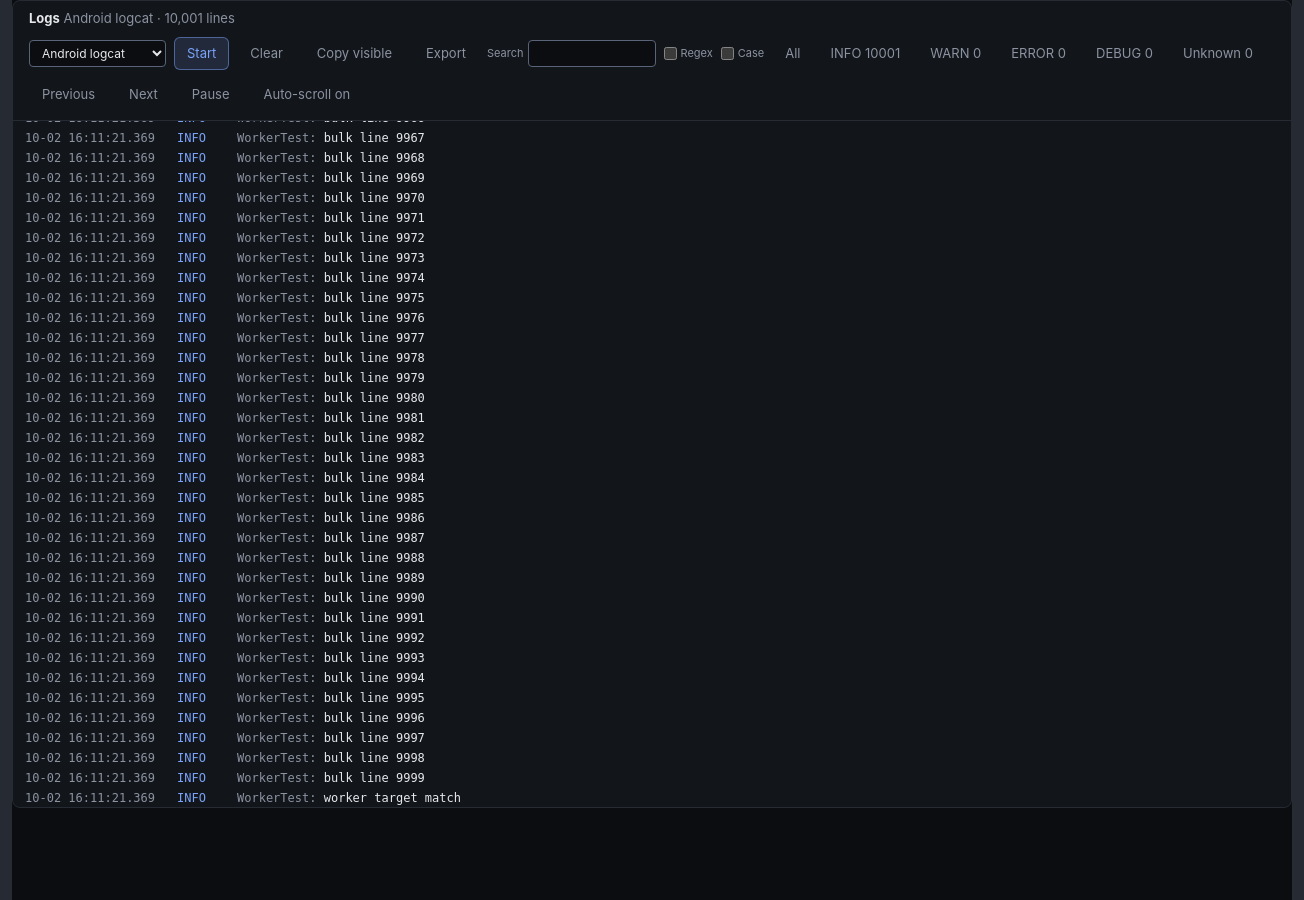
LogsView › uses the Worker search path above 10,000 visible lines
This screenshot has width=1304, height=900.
(page scrolled)
Type "worker target" into the search field named "Search logs" at (592, 53), box [528,40,656,66]
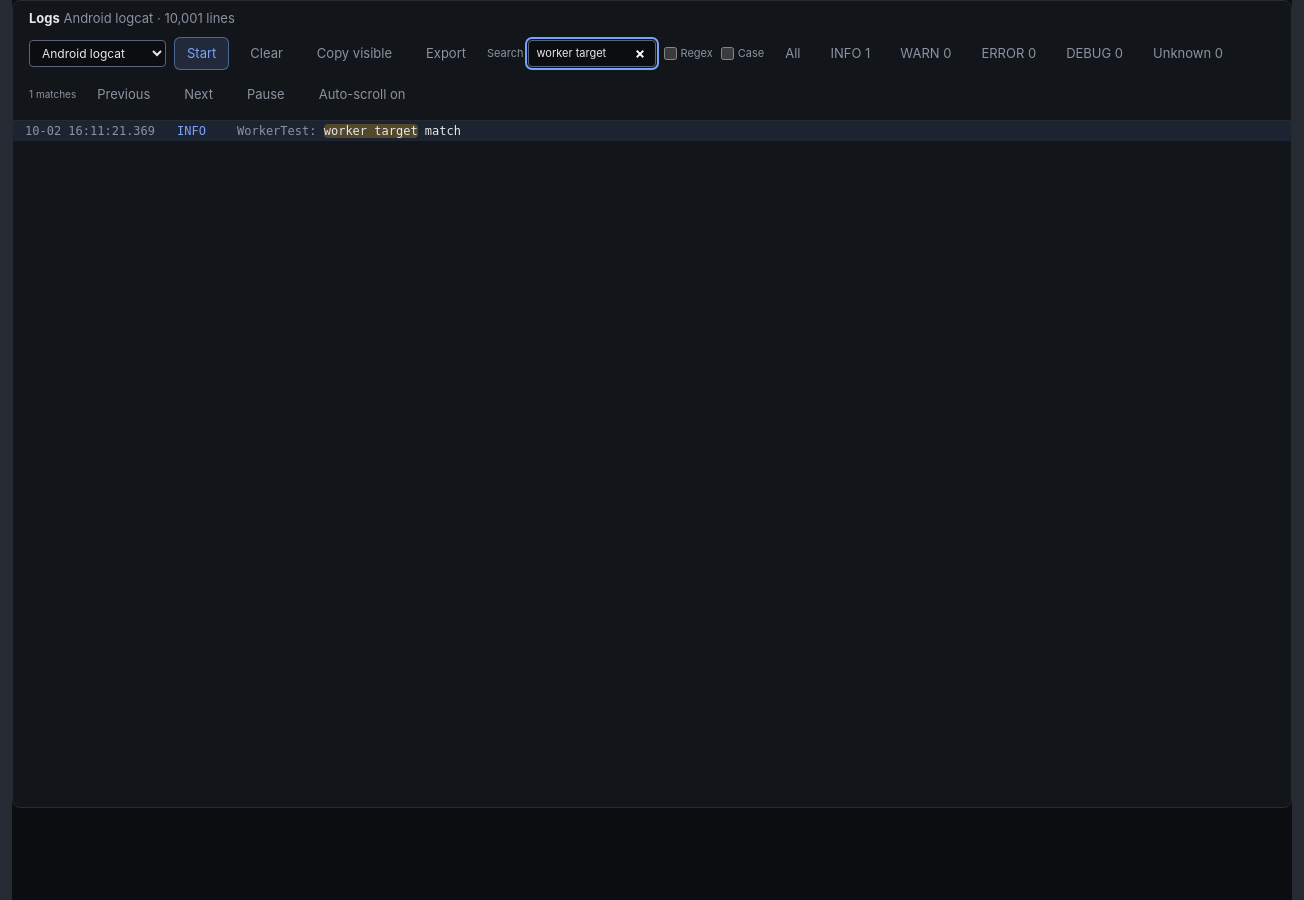
Expected: the button "10-02 16:11:21.369 info WorkerTest: worker target match" is shown, [13,120,1291,140]
Expected: the text "1 matches" is shown, [29,87,76,102]
Expected: the button "bulk line" is gone
